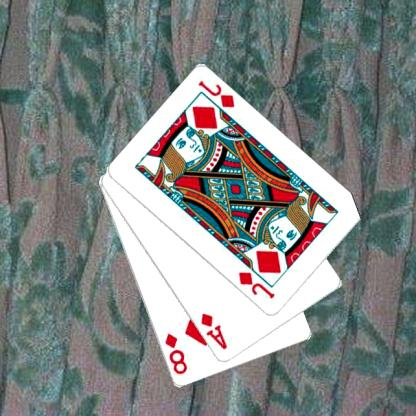8D: (164, 330, 190, 376)
AD: (200, 310, 231, 352)
JD: (237, 269, 278, 301), (197, 78, 238, 110)
